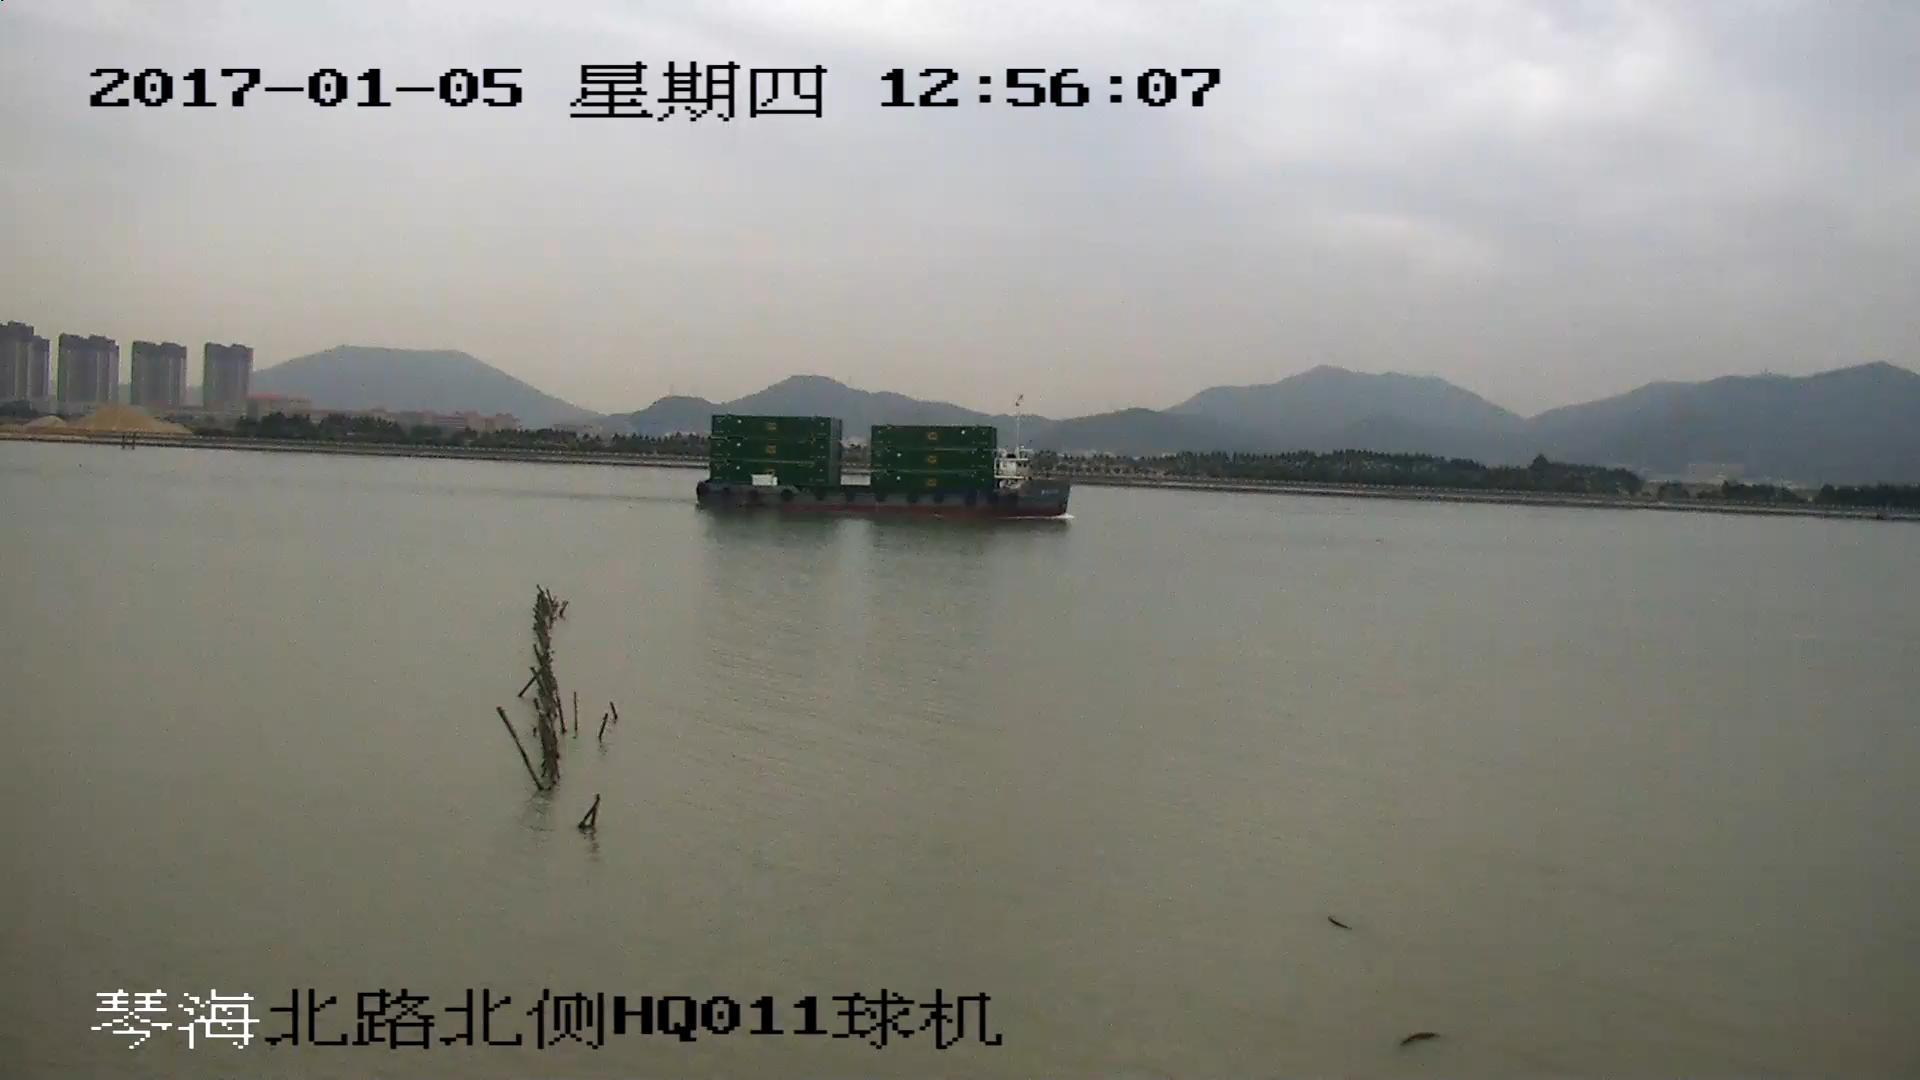container ship: (699, 411, 1070, 521)
